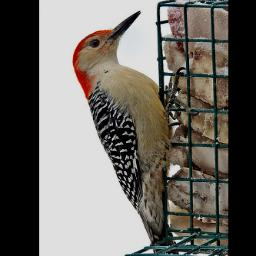Woodpecker: (73, 7, 187, 256)
